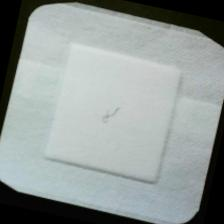Dressing: (1, 1, 224, 224)
F_Body: (86, 97, 132, 135)
